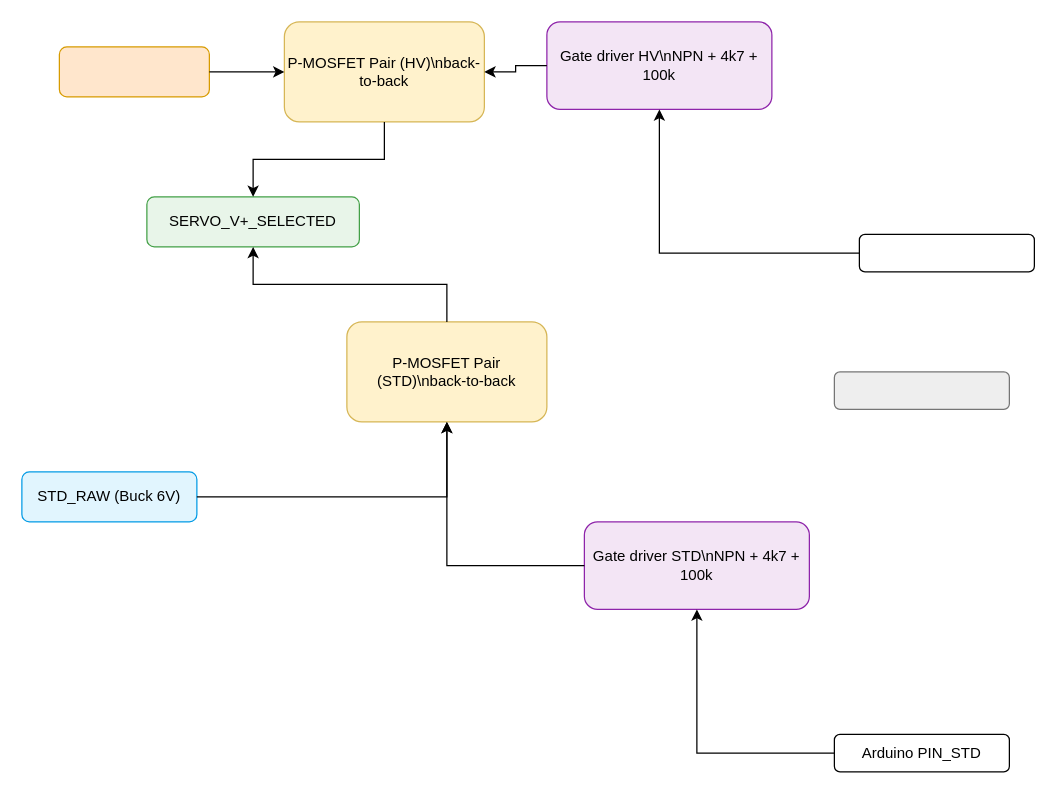
Some shapes in this 1056 by 794 pixel diagram are drawn without their labels. Here are the shapes that lost their labels. From the top down, the centre of each, then its label:
At point 133,71: "HV_RAW (2S)".
At point 946,252: "Arduino PIN_HV".
At point 921,390: "GND (common)".
